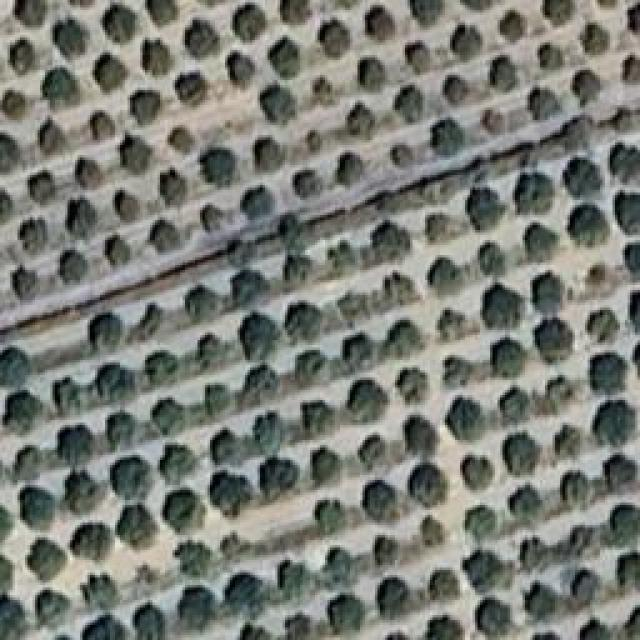Tree: (593, 400, 636, 447), (240, 313, 281, 362), (163, 490, 207, 535), (483, 283, 524, 329), (110, 455, 151, 500), (118, 505, 159, 550), (535, 318, 575, 364), (348, 380, 389, 424), (408, 462, 448, 507), (568, 205, 609, 248), (463, 550, 504, 593), (213, 474, 253, 518), (445, 397, 484, 442), (3, 390, 43, 433), (28, 538, 68, 581), (260, 457, 298, 502), (468, 188, 507, 231), (240, 365, 279, 408), (95, 364, 136, 404), (373, 220, 413, 261), (70, 523, 113, 561), (502, 433, 540, 476), (43, 68, 82, 109), (590, 353, 628, 395), (65, 470, 101, 514), (515, 174, 554, 214), (565, 158, 604, 198), (225, 575, 263, 616), (385, 320, 425, 358), (285, 303, 321, 345), (180, 588, 216, 630), (53, 18, 89, 59), (253, 413, 287, 456), (327, 595, 365, 633), (160, 445, 196, 485), (363, 480, 398, 521), (508, 485, 543, 526), (20, 488, 54, 530), (93, 52, 128, 92), (185, 20, 220, 60), (493, 337, 528, 377), (428, 257, 463, 297), (533, 273, 566, 315), (378, 578, 411, 620), (200, 148, 236, 186), (232, 273, 270, 309), (35, 590, 71, 628), (90, 313, 124, 353), (408, 415, 439, 458), (58, 425, 94, 462), (260, 85, 295, 123), (430, 118, 465, 156), (603, 455, 638, 493), (318, 20, 351, 60), (383, 273, 419, 309), (83, 575, 119, 611), (103, 5, 137, 43), (233, 3, 267, 41), (153, 397, 187, 435), (525, 223, 559, 261), (478, 598, 512, 636), (268, 38, 299, 79), (560, 115, 595, 151), (185, 285, 219, 322), (175, 543, 213, 576), (525, 583, 558, 621), (123, 135, 154, 175), (313, 447, 344, 487), (610, 505, 640, 546), (145, 348, 179, 384), (338, 293, 372, 329), (465, 505, 499, 541), (283, 252, 316, 289), (278, 560, 311, 597), (68, 198, 98, 238), (0, 347, 30, 387), (610, 144, 640, 184), (343, 332, 373, 372), (108, 412, 138, 452), (240, 185, 274, 220), (450, 25, 483, 61), (303, 400, 336, 436), (463, 455, 496, 491), (395, 368, 428, 404), (53, 377, 82, 417), (295, 350, 328, 385), (133, 603, 164, 640), (253, 138, 284, 174), (18, 218, 48, 255), (143, 40, 173, 77), (198, 333, 228, 370), (395, 85, 425, 122), (323, 548, 353, 585), (563, 473, 593, 510), (38, 118, 67, 156), (160, 168, 189, 206), (150, 220, 183, 253), (588, 310, 621, 343), (130, 90, 161, 125), (365, 5, 395, 41), (573, 70, 603, 106), (615, 193, 640, 236), (210, 428, 239, 465), (528, 88, 561, 120), (60, 250, 90, 285), (315, 500, 345, 535), (520, 537, 550, 572), (490, 55, 519, 91), (13, 445, 42, 481), (83, 615, 124, 640), (428, 570, 461, 601), (498, 387, 528, 421), (28, 170, 57, 205), (328, 240, 357, 275), (573, 570, 602, 605), (12, 265, 40, 301), (347, 103, 375, 139), (477, 243, 505, 279), (357, 435, 385, 471), (0, 595, 22, 640), (543, 377, 573, 410), (10, 38, 36, 75), (443, 358, 473, 390), (410, 0, 445, 27), (580, 23, 609, 55), (180, 73, 208, 106), (555, 425, 583, 458), (428, 615, 464, 640), (105, 235, 133, 267), (500, 10, 528, 42), (437, 310, 465, 342), (230, 54, 256, 88), (115, 190, 141, 223), (338, 153, 364, 186), (360, 58, 386, 91), (218, 533, 247, 562), (205, 383, 230, 416), (293, 170, 322, 198), (15, 0, 46, 26), (373, 535, 399, 566), (0, 132, 20, 172), (405, 43, 430, 75), (90, 112, 116, 142), (147, 0, 177, 26), (443, 75, 469, 105), (280, 214, 306, 244), (610, 105, 638, 132), (425, 214, 450, 244), (420, 515, 444, 546), (78, 158, 102, 188), (570, 527, 594, 557), (168, 128, 194, 155), (3, 90, 28, 118), (228, 240, 253, 268), (620, 553, 640, 588), (282, 0, 311, 24), (545, 0, 574, 24), (580, 620, 613, 640), (200, 205, 223, 233), (540, 42, 563, 70), (238, 623, 275, 640), (483, 110, 506, 135), (625, 243, 640, 280), (288, 618, 313, 640), (315, 78, 334, 106), (390, 145, 413, 168), (0, 555, 13, 595), (622, 55, 640, 83), (625, 607, 640, 640), (0, 187, 13, 222), (630, 290, 640, 333), (627, 2, 640, 33), (460, 0, 492, 11), (308, 130, 323, 152), (598, 0, 619, 8)
